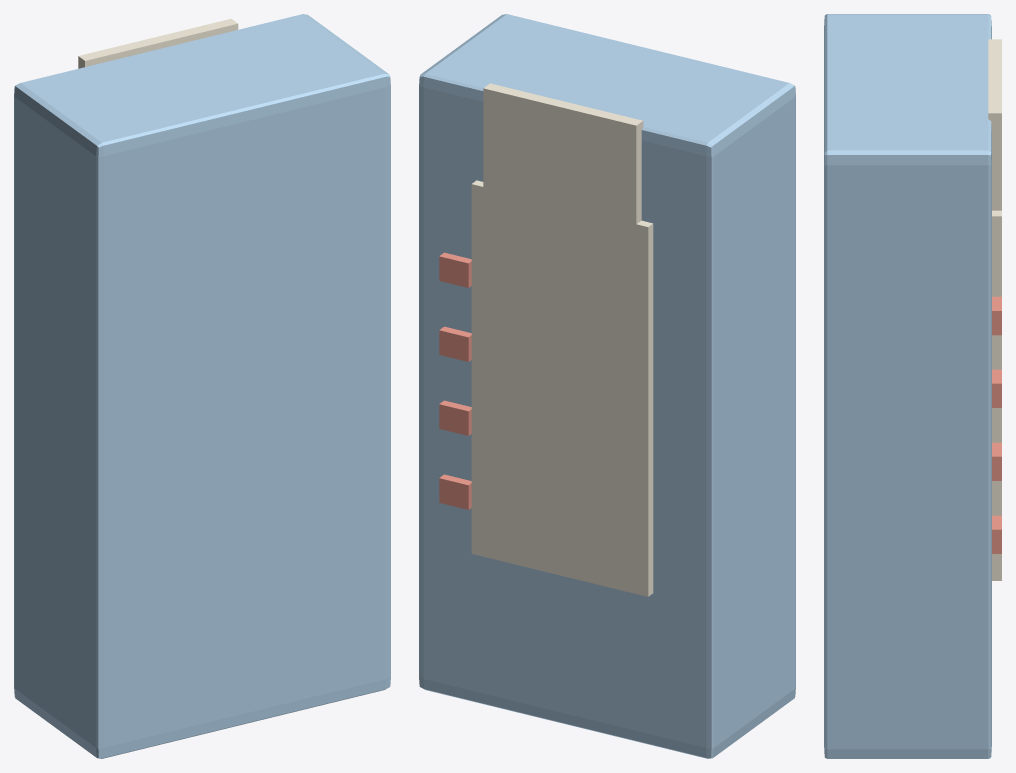
Rendered from vending.glb.
The picture shows the model from 3 angles, left to right: view 1: azimuth 30°, elevation 25°; view 2: azimuth 150°, elevation 25°; view 3: azimuth 270°, elevation 25°; orthographic projection.
Visible parts, largest first — view 1: Cube, Cube.002; view 2: Cube, Cube.001, Cube.002, Cube.004, Cube.003, Cube.005, Cube.006; view 3: Cube, Cube.001, Cube.002, Cube.003, Cube.004, Cube.005, Cube.006.
Boxes of the visible parts, x1,y1,x2,y2 form: Cube: (14, 14, 390, 758); Cube.002: (78, 18, 238, 68); Cube: (419, 14, 795, 758); Cube.001: (471, 180, 653, 596); Cube.002: (483, 83, 643, 260); Cube.004: (439, 326, 471, 361); Cube.003: (439, 252, 471, 287); Cube.005: (439, 400, 471, 435); Cube.006: (439, 474, 471, 509); Cube: (824, 14, 991, 758); Cube.001: (992, 210, 1001, 580); Cube.002: (988, 39, 1001, 210); Cube.003: (992, 296, 1001, 335); Cube.004: (992, 369, 1001, 407); Cube.005: (992, 442, 1001, 480); Cube.006: (992, 515, 1001, 553).
Size of the model in its own units: 0.5 by 1.01 by 0.265.
